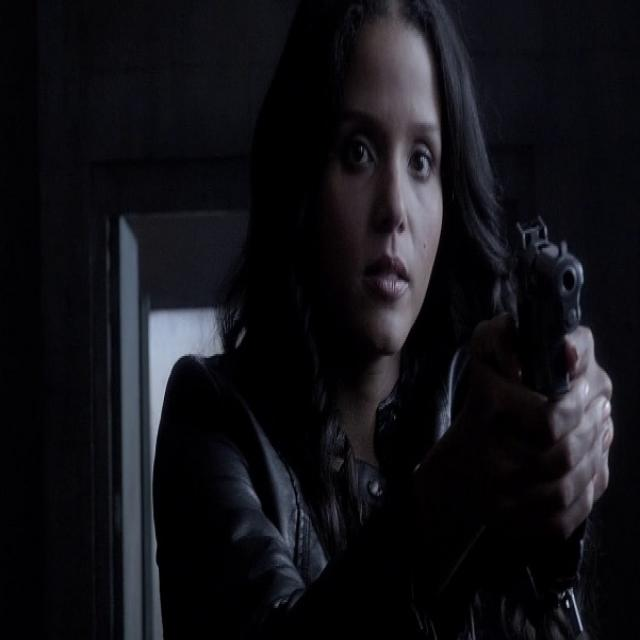weapons: (496, 183, 598, 473)
